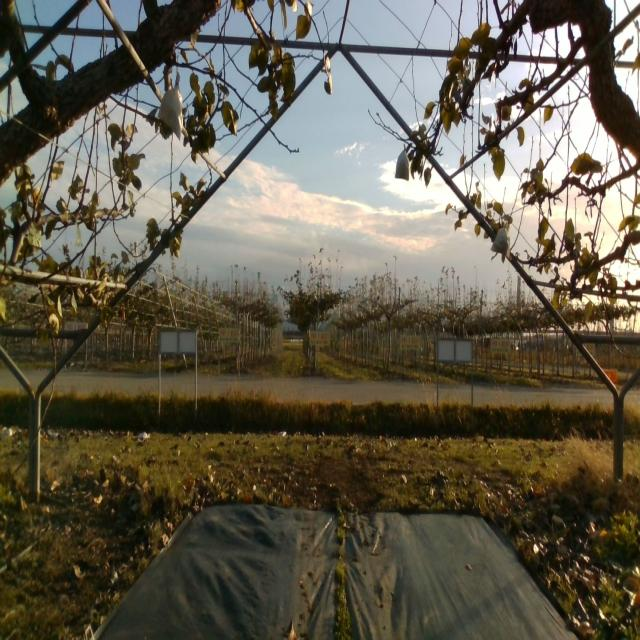pearbags: (154, 75, 183, 137), (490, 221, 512, 257), (394, 145, 411, 182)
